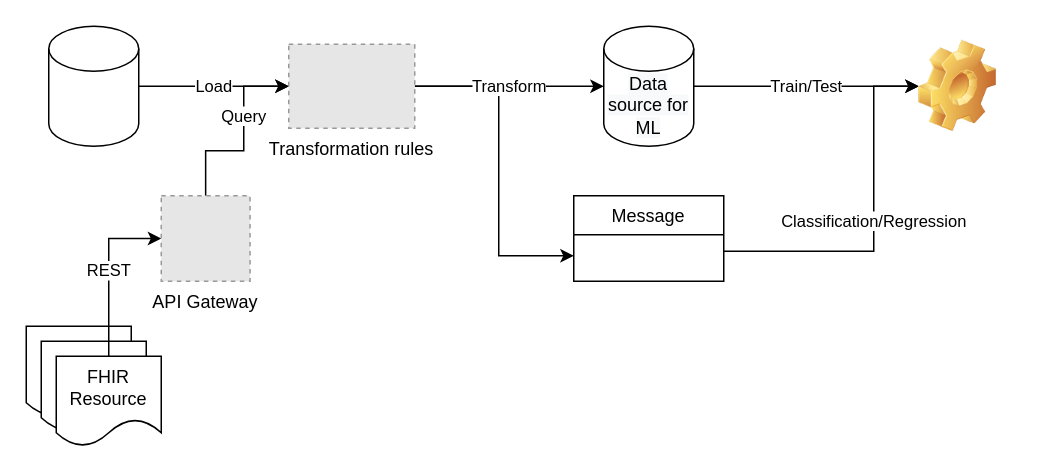
Some shapes in this 1037 by 473 pixel diagram are drawn without their labels. Grey dashed boxes stand in for pictures. Here are the shapes that lost their labels. From the top down, the centre of each, then its label:
At (x=93, y=85): "FHIR DB".
At (x=957, y=85): "IntegratedML".
